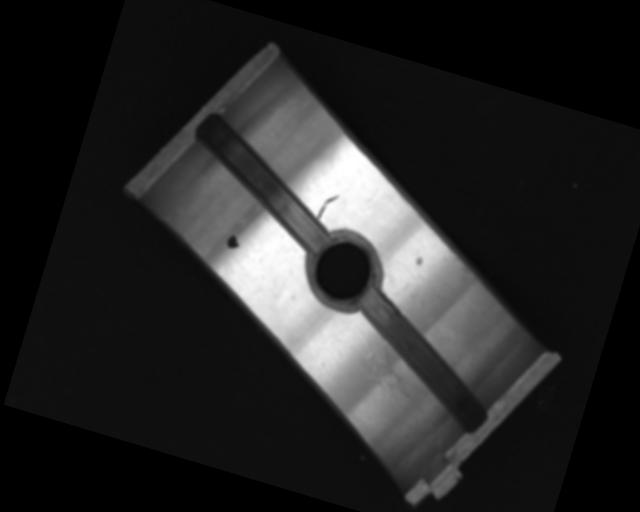blot: (225, 231, 243, 250)
bruise: (413, 255, 424, 268)
gap: (334, 285, 512, 435), (176, 112, 346, 251)
hole: (299, 225, 388, 313)
nick: (315, 191, 339, 224)
scratch: (356, 338, 441, 415)
